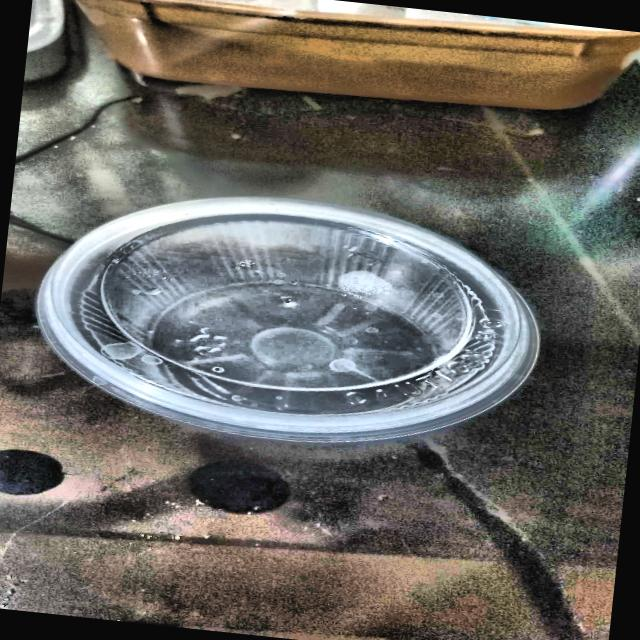plastic container: (37, 196, 537, 442)
